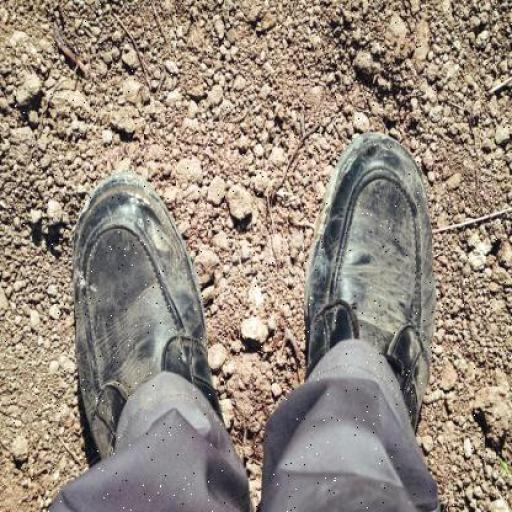safety_shoe: (62, 162, 235, 496), (305, 135, 433, 439)
